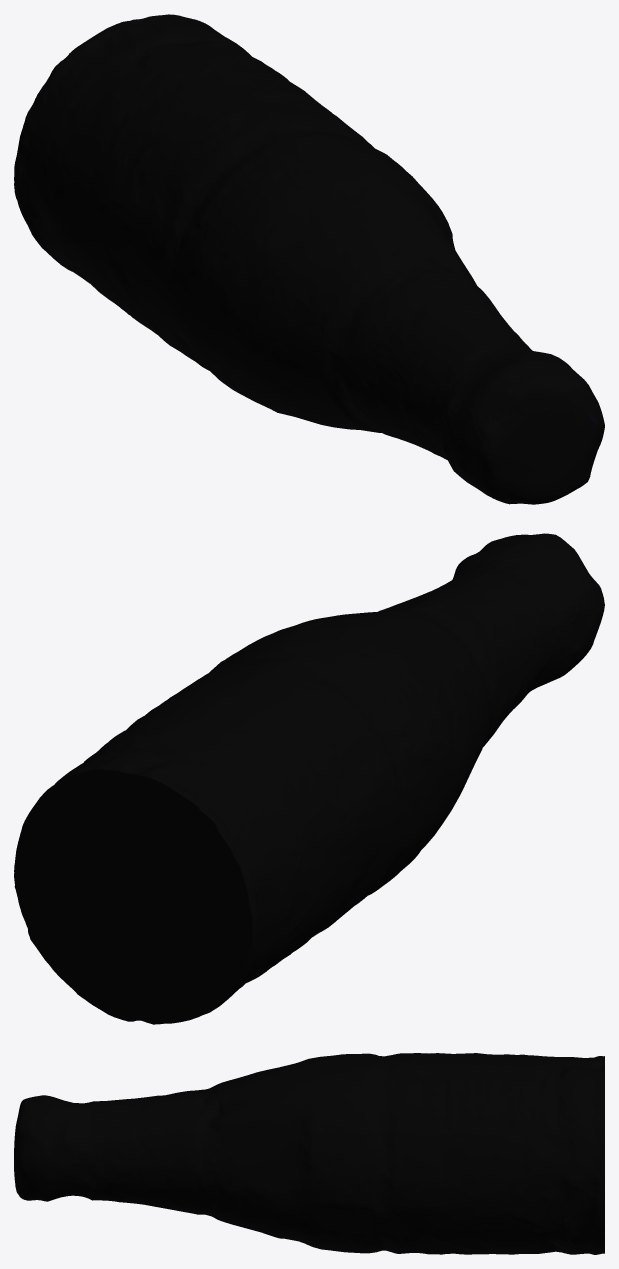
The model's file is obstacle_bottle_scan.dae.
The picture shows the model from 3 angles, top to bottom: view 1: azimuth 30°, elevation 25°; view 2: azimuth 150°, elevation 25°; view 3: azimuth 270°, elevation 25°; orthographic projection. The views are drawn at different scales.
Parts seen in each view (by area): view 1: node; view 2: node; view 3: node.
Part boxes in pixels (x1,y1,x2,y2): node: (14, 14, 604, 504); node: (14, 533, 604, 1024); node: (14, 1053, 604, 1254).
Bounding box in the file's own units: 0.0725 × 0.0733 × 0.2151.
1 material, 1 textured.
